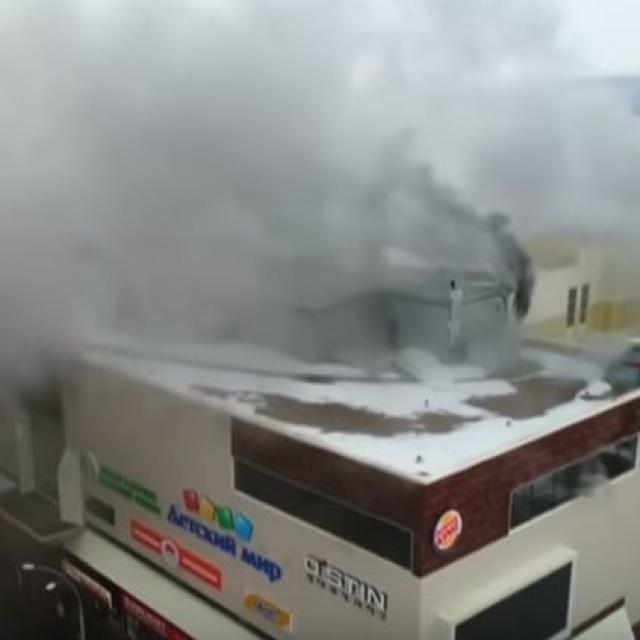Smoke: (0, 0, 631, 382)
